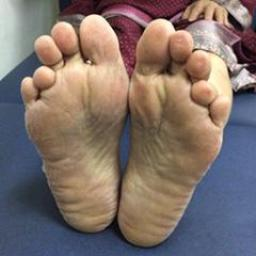Plantar View -Both Feet-: (14, 7, 235, 252)
